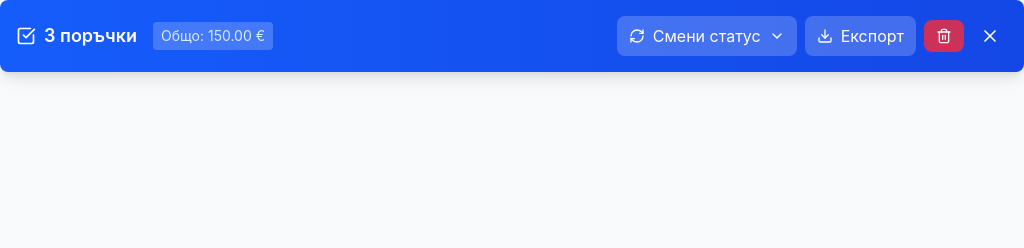
Scenario: BulkActionsBar › delete › shows confirmation before deleting
Click the button titled "Изтрий избраните" at (944, 36), box [924,20,964,52]
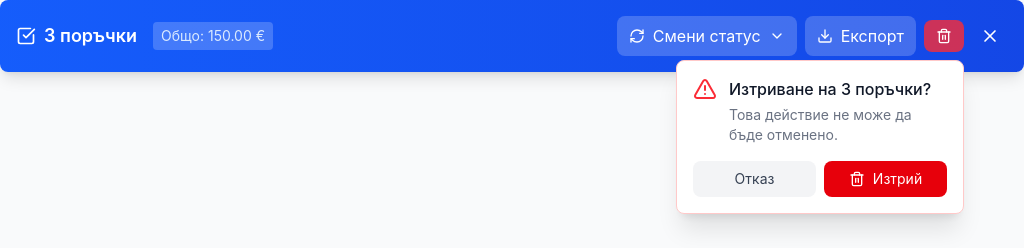
Expected: the heading "Изтриване на 3 поръчки?" is shown, [729,77,947,101]
Expected: the text "Това действие не може да бъде отменено." is shown, [729,106,912,143]
